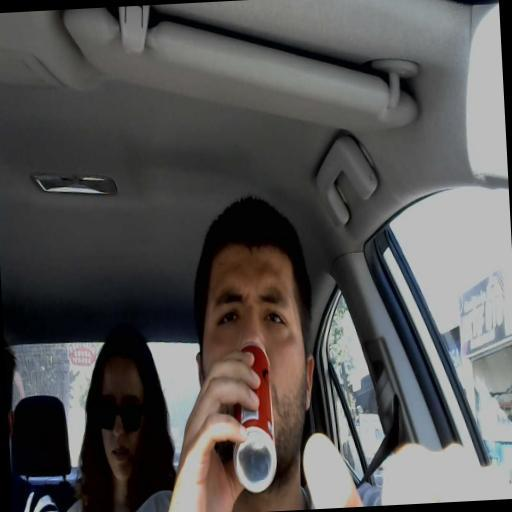Drinking: (196, 248, 315, 494)
